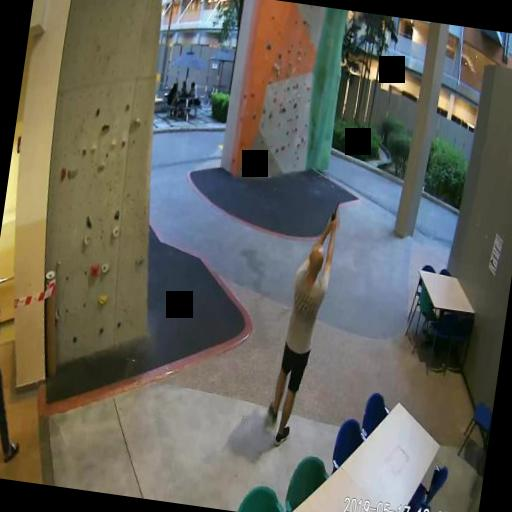Handgun: (328, 197, 340, 225)
